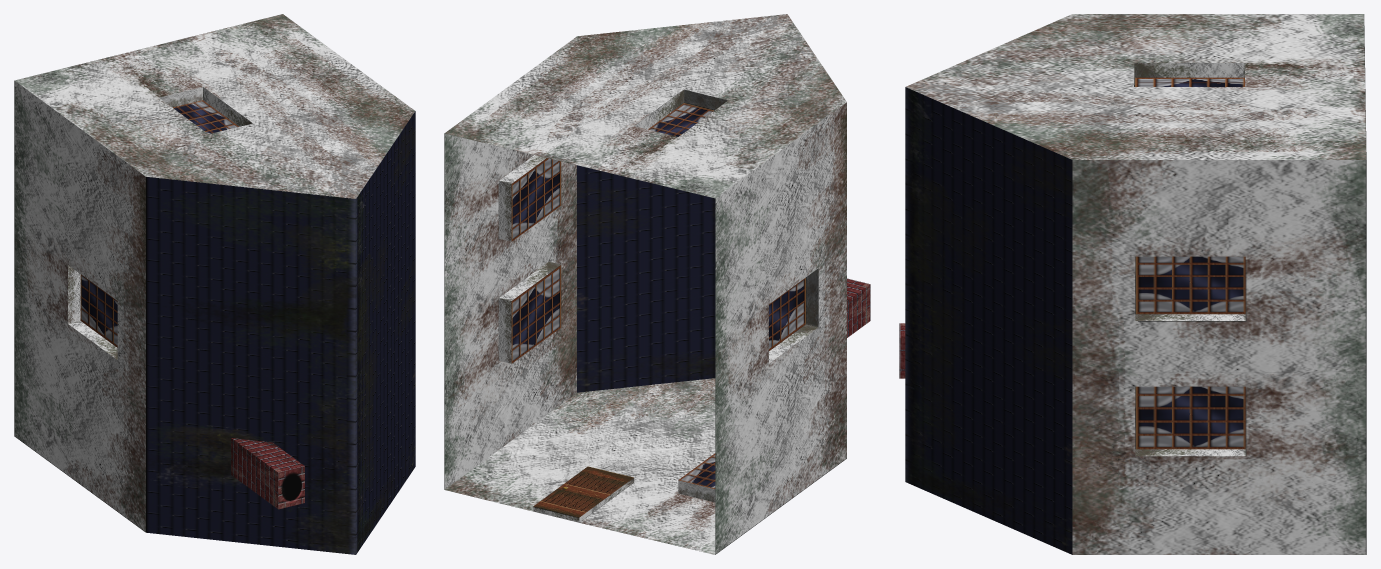
Rendered from Maison.obj.
3 renders of one model, left to right at view 1: azimuth 30°, elevation 25°; view 2: azimuth 150°, elevation 25°; view 3: azimuth 270°, elevation 25°, orthographic. The views are drawn at different scales.
Parts seen in each view (by area): view 1: Box01; view 2: Box01; view 3: Box01.
Part boxes in pixels (<box>): Box01: <box>14,14,415,554</box>; Box01: <box>444,14,870,554</box>; Box01: <box>899,14,1366,554</box>.
Size of the model in its own units: 270 by 341 by 365.
